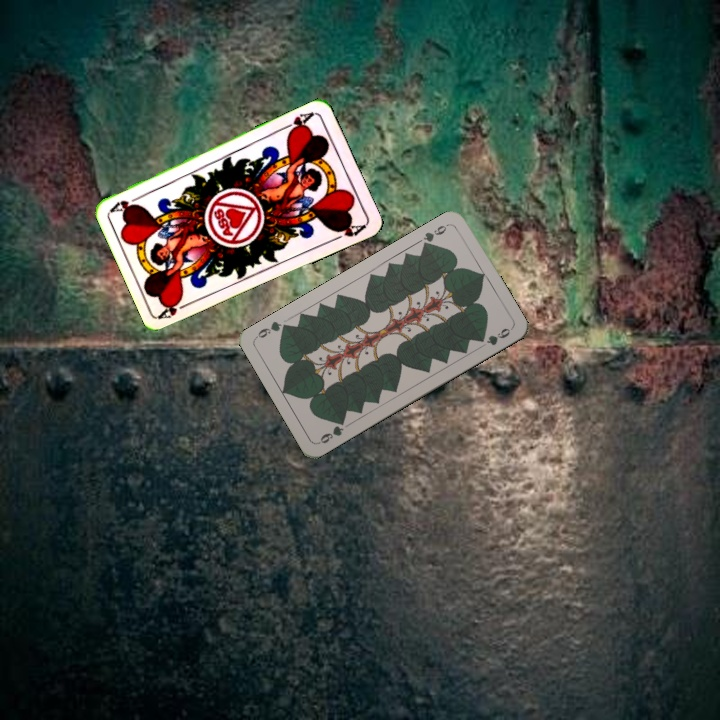G9: (418, 219, 452, 251), (314, 415, 347, 447)
HA: (279, 107, 317, 137), (156, 296, 195, 321)
